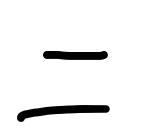eqv: (17, 51, 110, 122)
